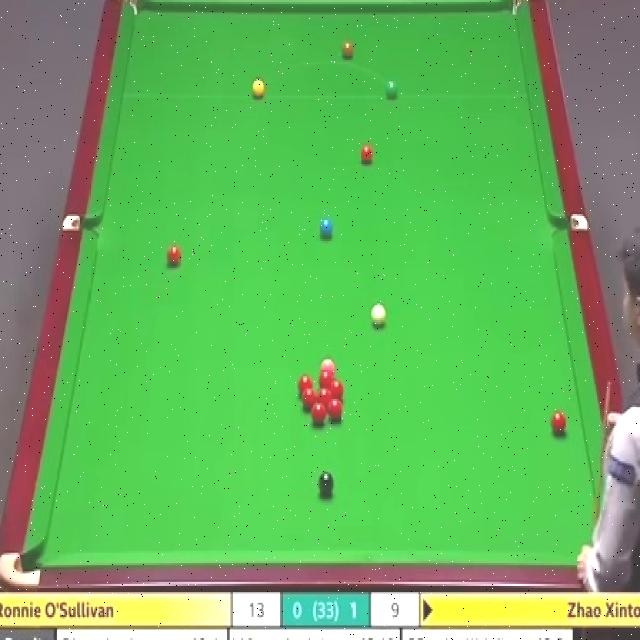black-ball: (317, 470, 334, 499)
blue-ball: (318, 217, 334, 240)
brown-ball: (341, 40, 355, 61)
green-ball: (384, 80, 400, 102)
pink-ball: (320, 357, 336, 370)
red-ball: (550, 410, 567, 437), (328, 399, 342, 424), (166, 248, 181, 270), (312, 402, 326, 425), (329, 379, 342, 402), (298, 375, 312, 396), (319, 370, 335, 388), (360, 144, 374, 164), (302, 389, 316, 408), (316, 387, 331, 404), (251, 523, 251, 524)
white-ball: (369, 305, 388, 331)
yellow-ball: (252, 79, 265, 99)
